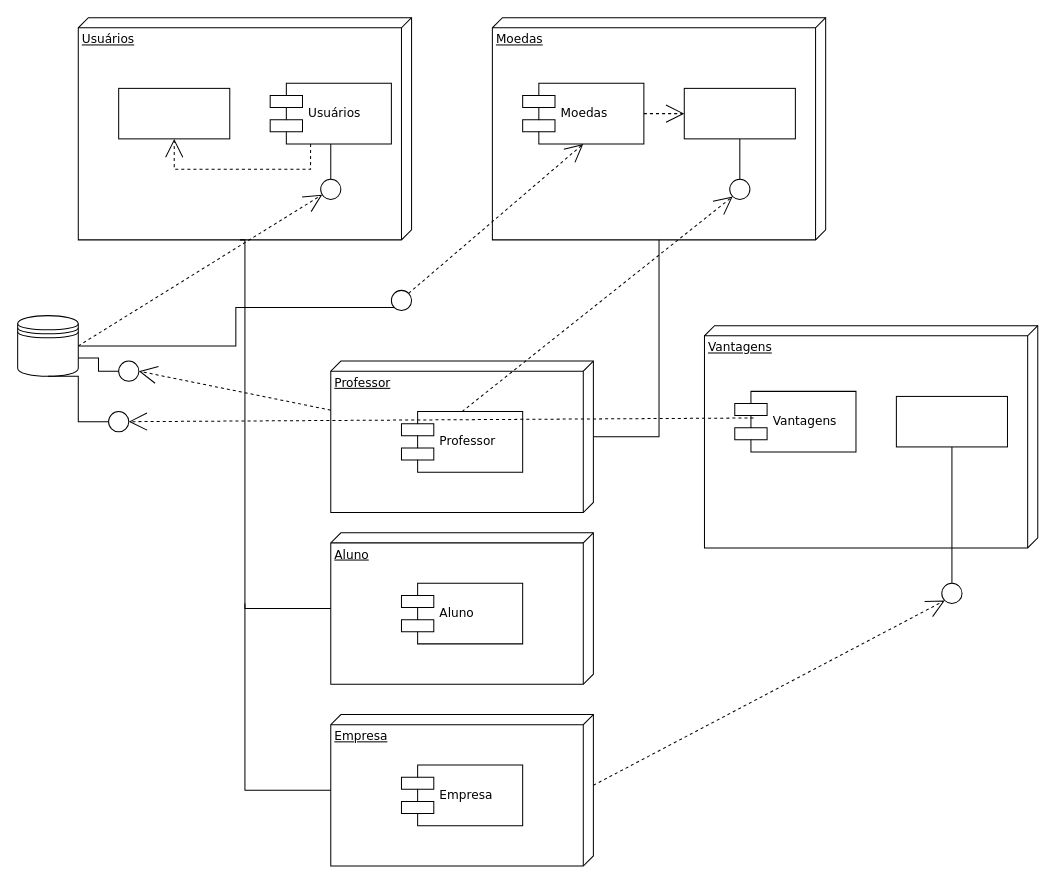
Some shapes in this 1055 by 884 pixel diagram are drawn without their labels. The shapes that lost their labels are listed below. From the top down, each one's centre as x and y in pixels, then its label:
At (174,113): "«interface» Cadastro".
At (739,113): "«interface» Distribuição".
At (47,345): "Banco".
At (951,421): "«interface» Criação vantagem".
